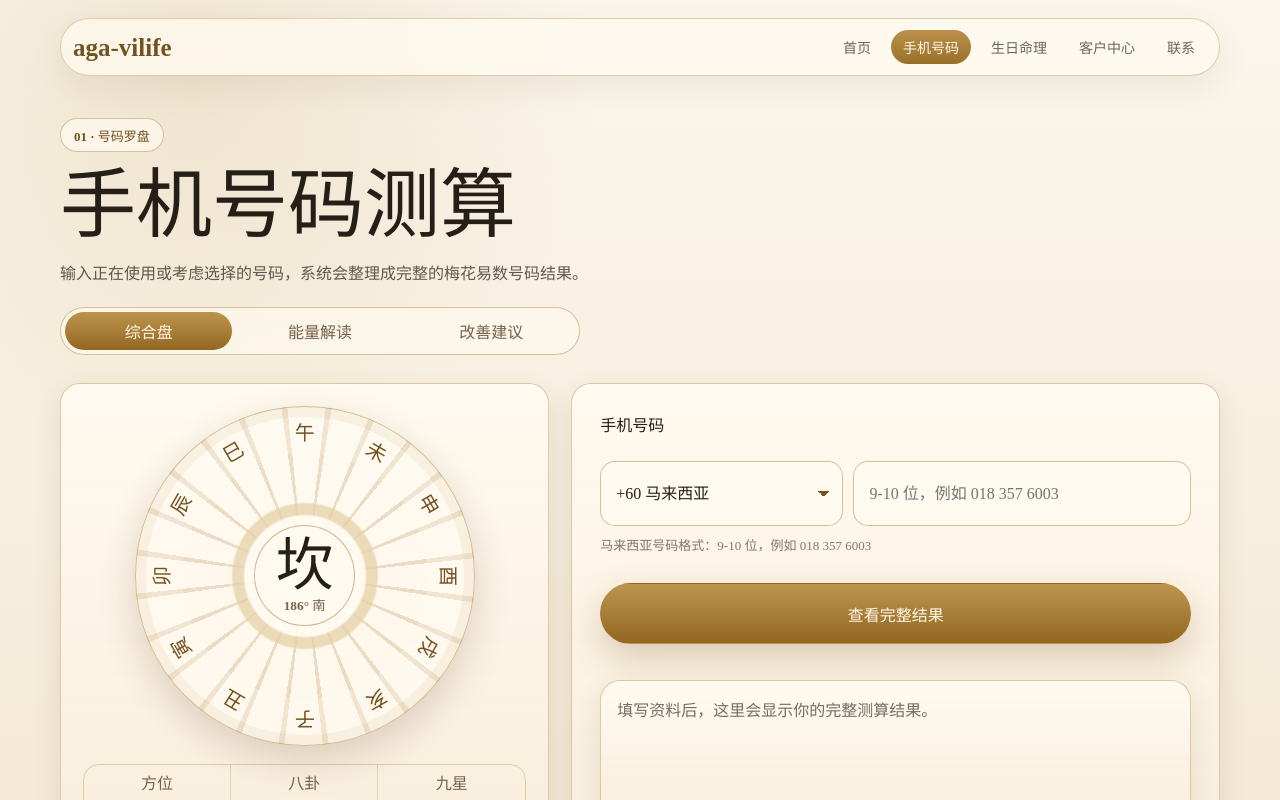
it: App calculator routes › shows the full phone result on the phone page
Type "018 357 6003" into the field labelled "手机号码" at [1022, 494], box [853,461,1191,526]
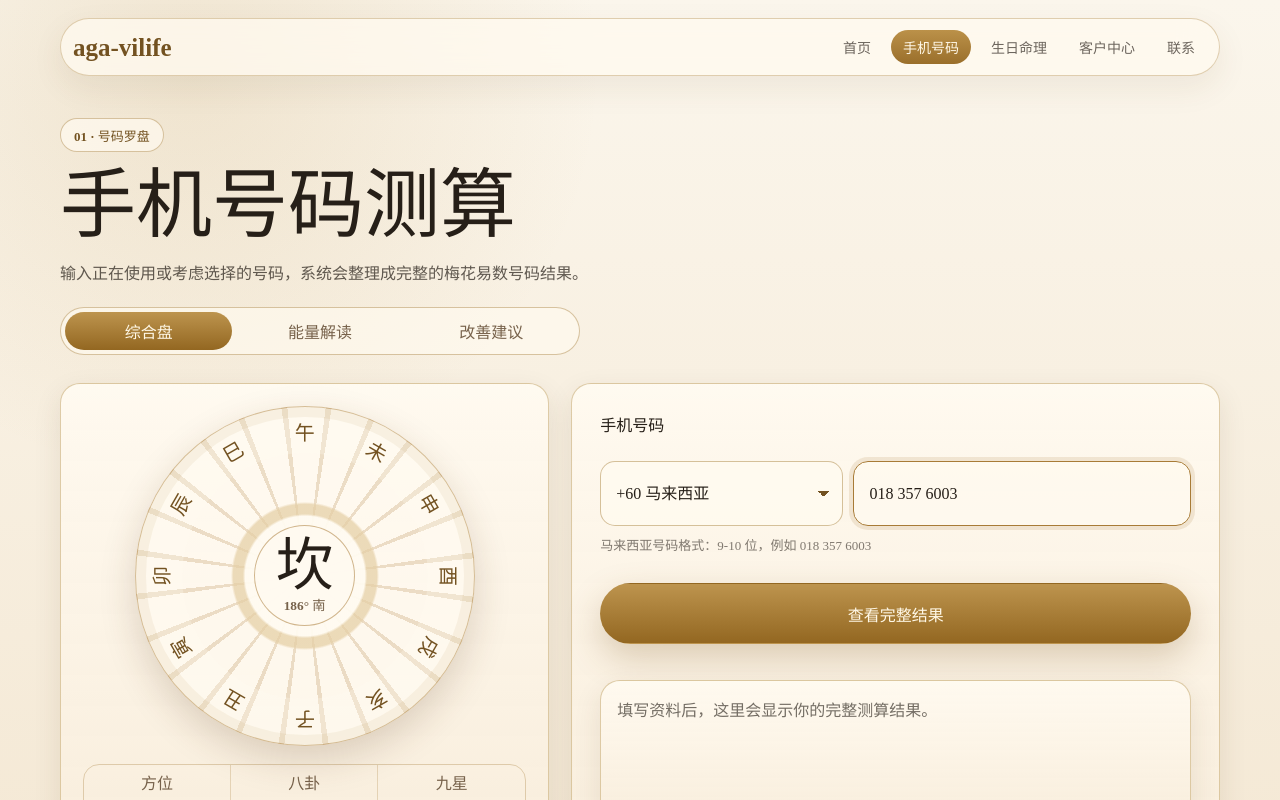
Click the button "查看完整结果" at [896, 614], box [600,583,1191,644]
(page scrolled)
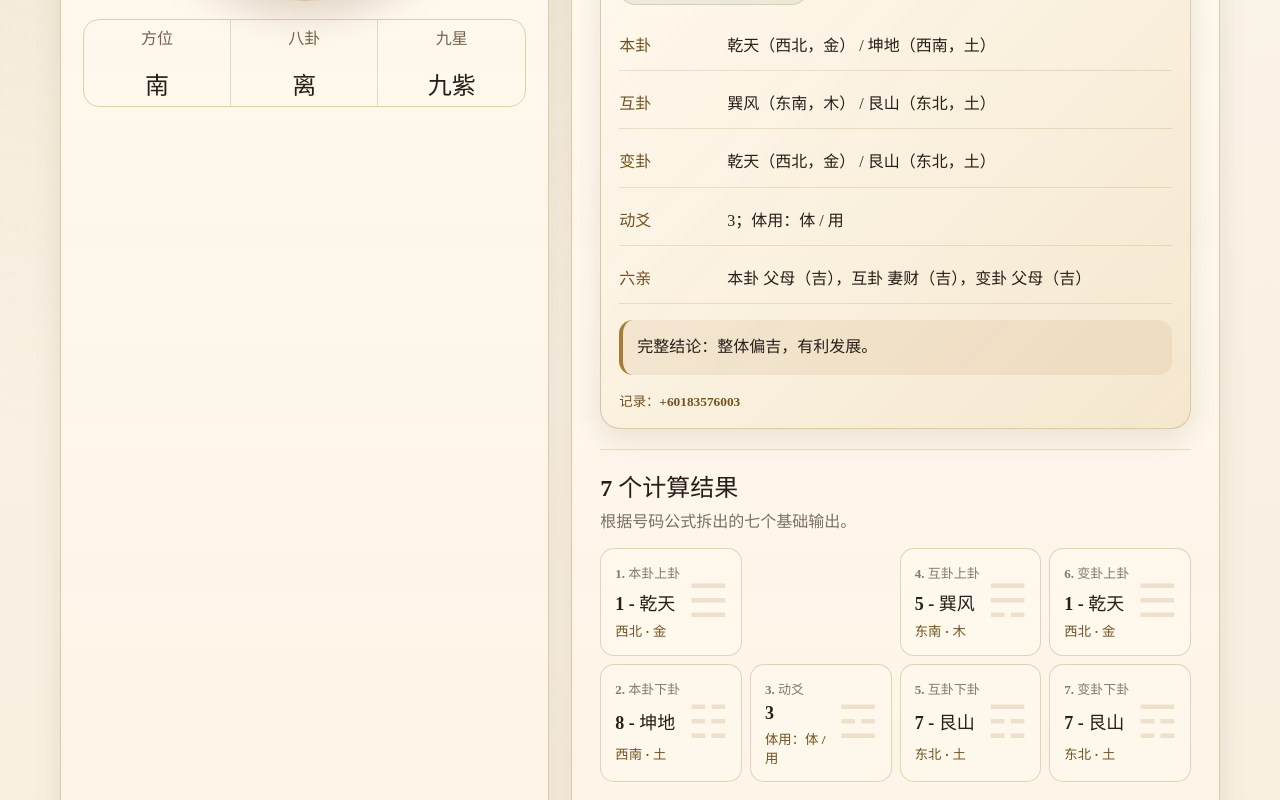
Check: the text "完整结论：整体偏吉，有利发展。" is shown, box [619,320,1172,375]
Check: the text "7 个计算结果" is shown, box [600,475,738,501]
Check: the text "1. 本卦上卦" is shown, box [615,564,687,584]
